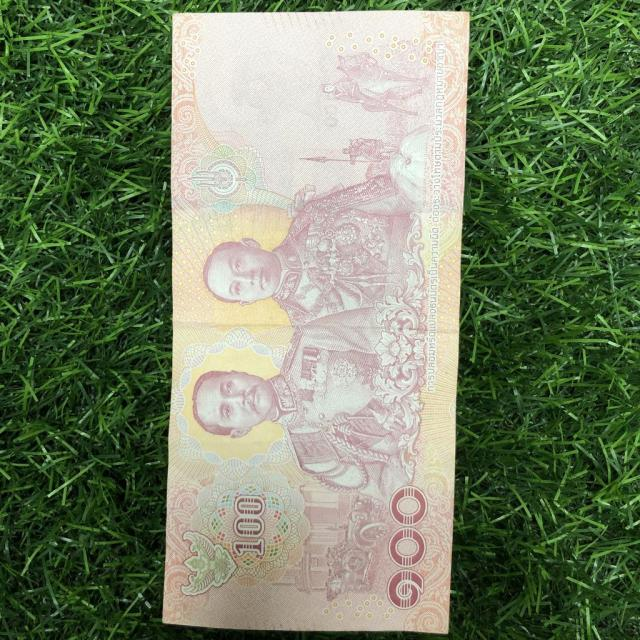THAI100: (161, 10, 472, 637)
